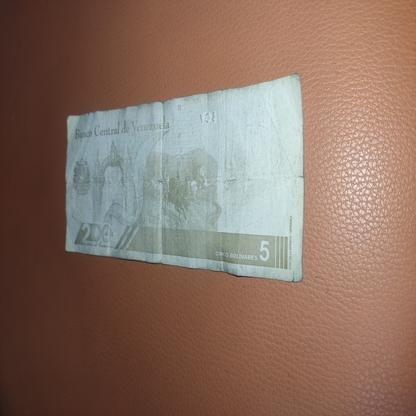five-back-vef: (64, 71, 304, 282)
